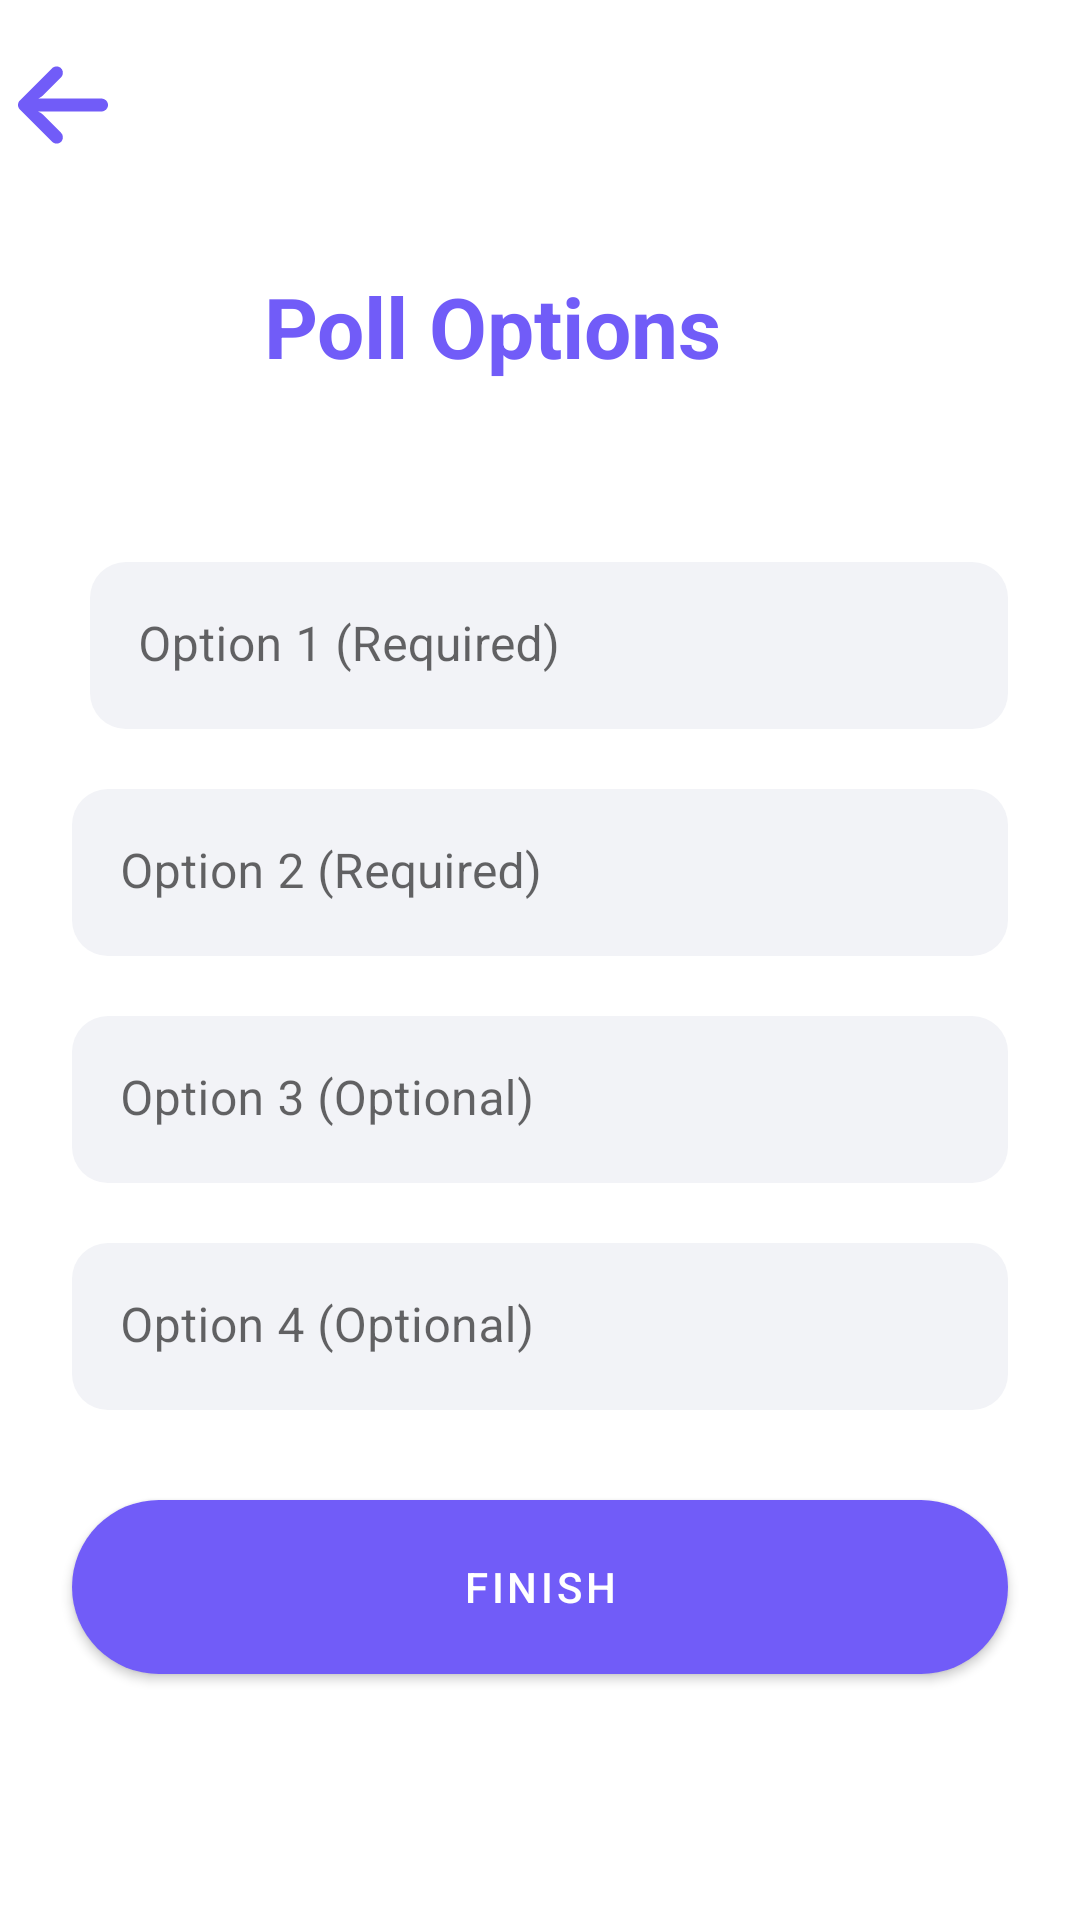

Icons on this 1080px×1920px Android screen, each with its box as (x1, y1, x2, y2):
arrow: (18, 66, 108, 144)
